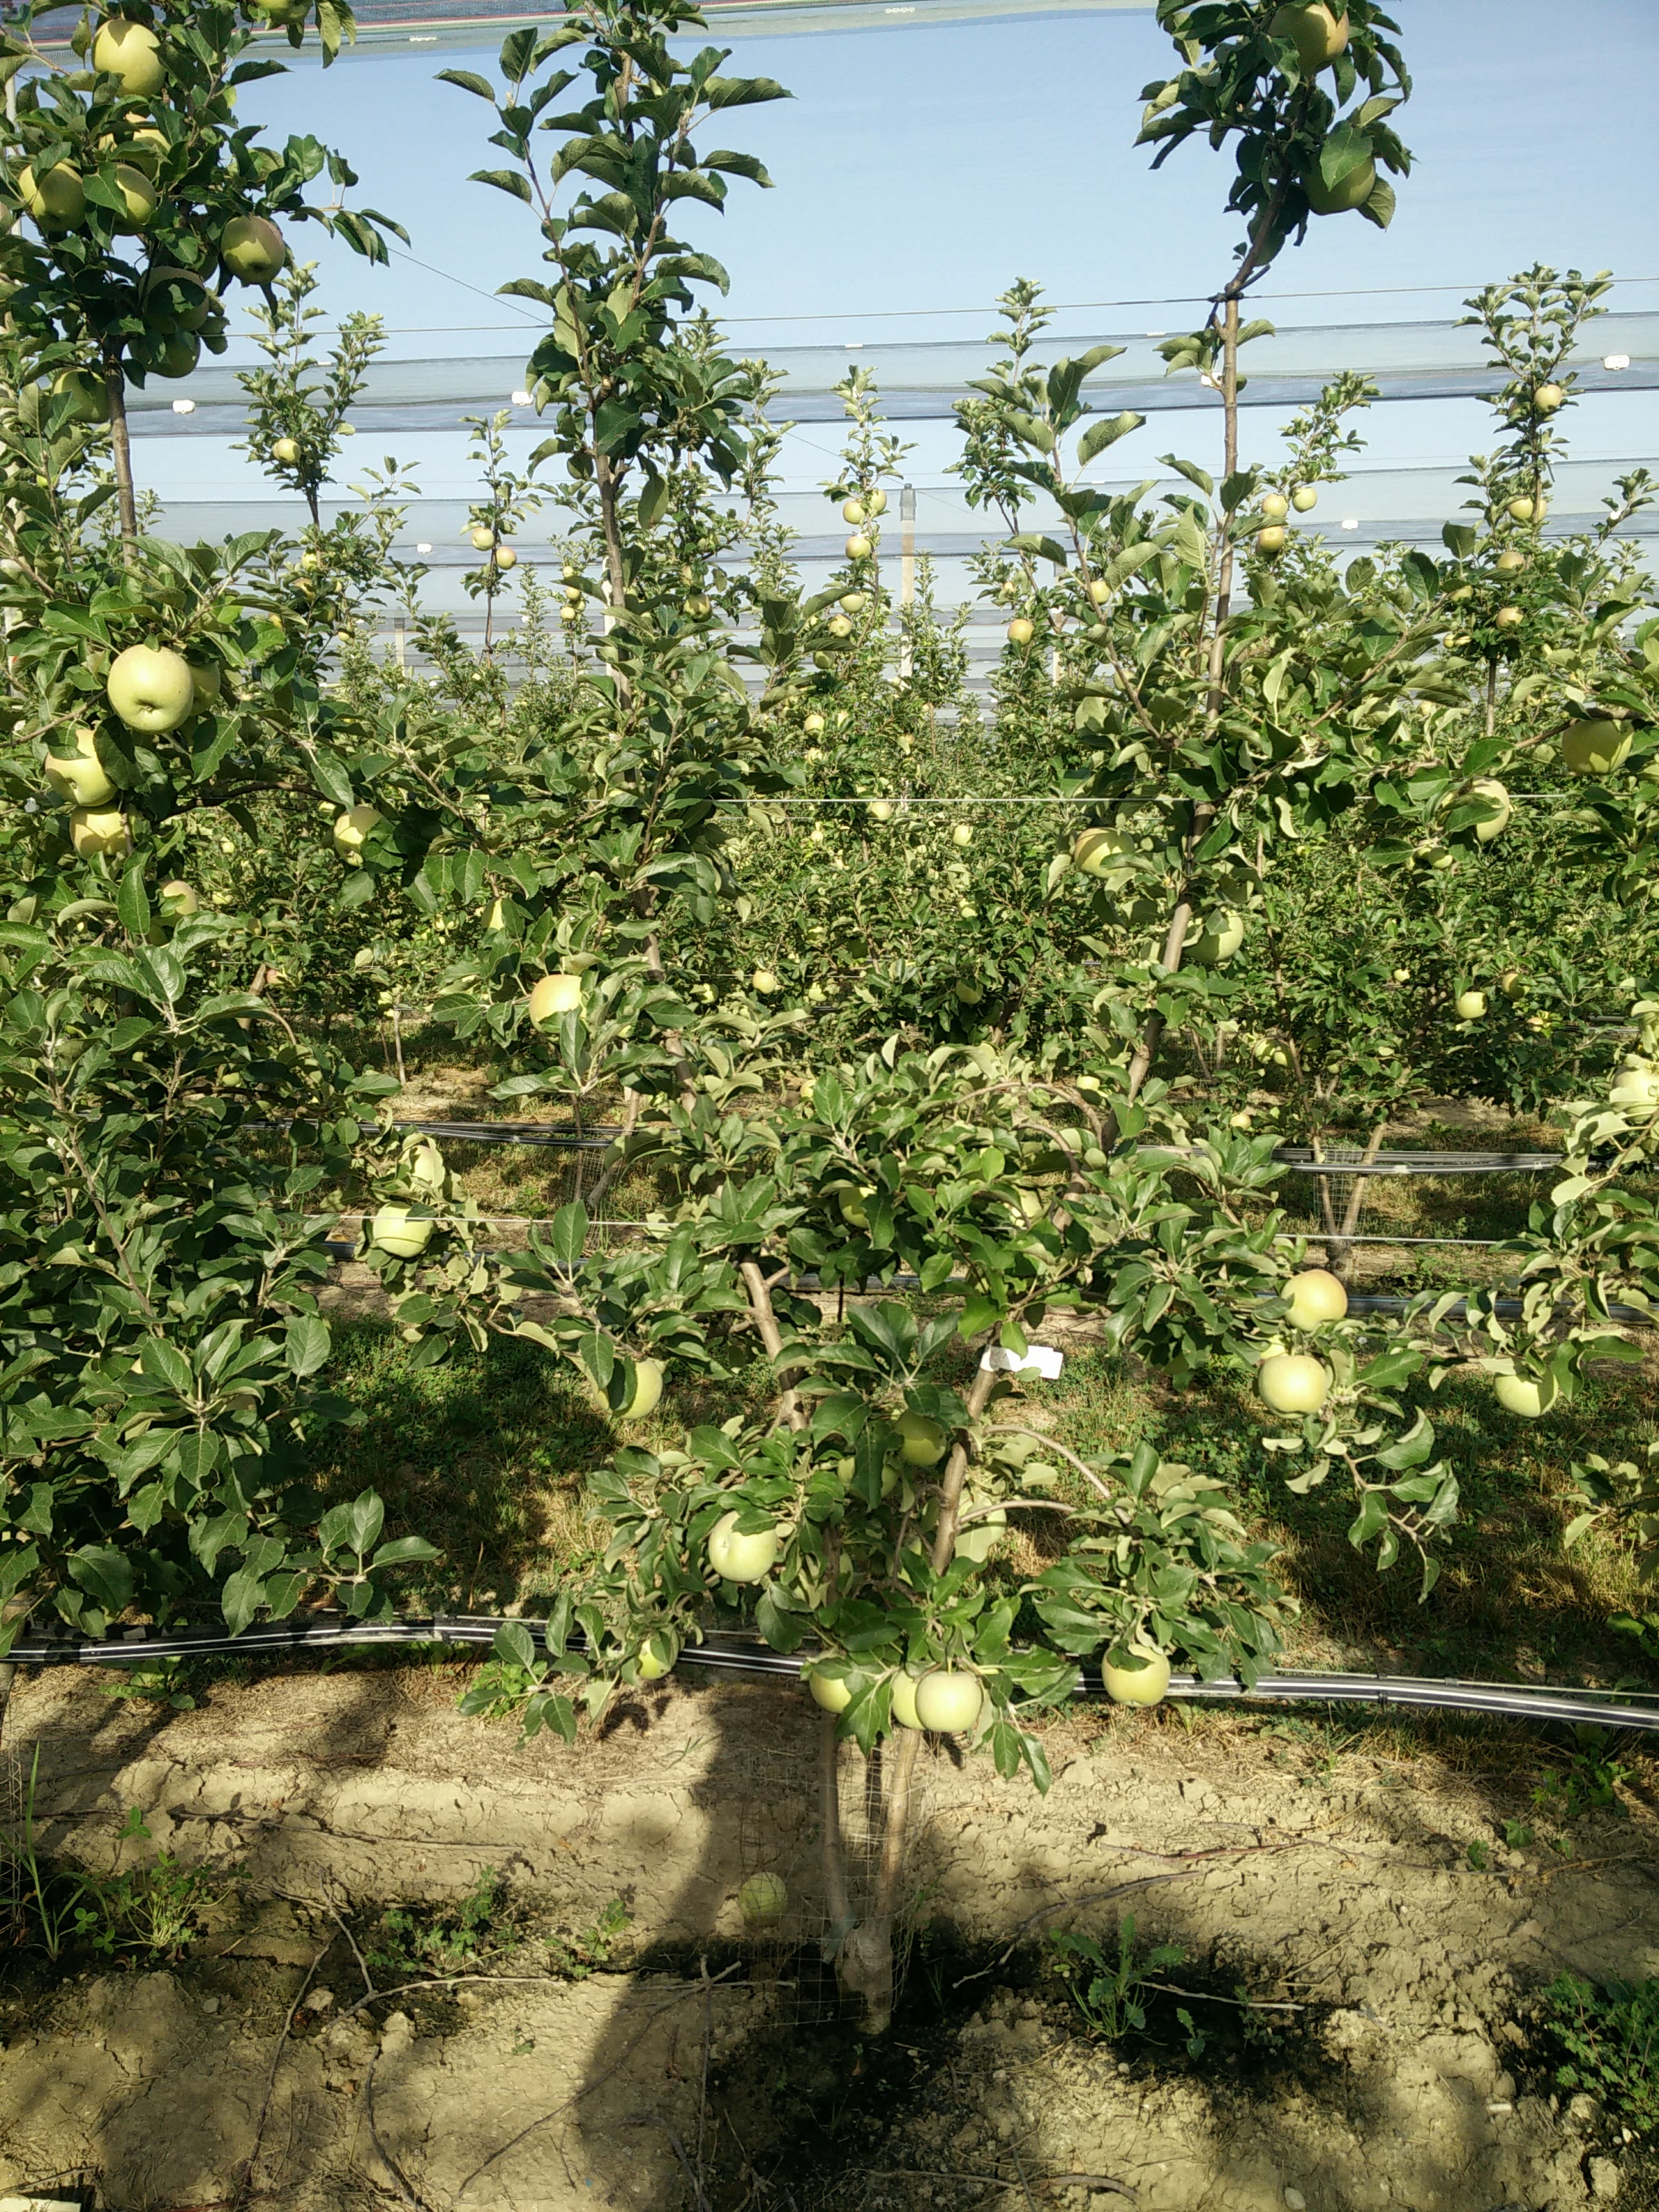apple: (101, 641, 196, 731), (79, 17, 168, 94), (701, 1511, 777, 1583), (1257, 1354, 1331, 1421), (1275, 1267, 1351, 1332), (1098, 1642, 1173, 1708), (912, 1670, 984, 1737)
